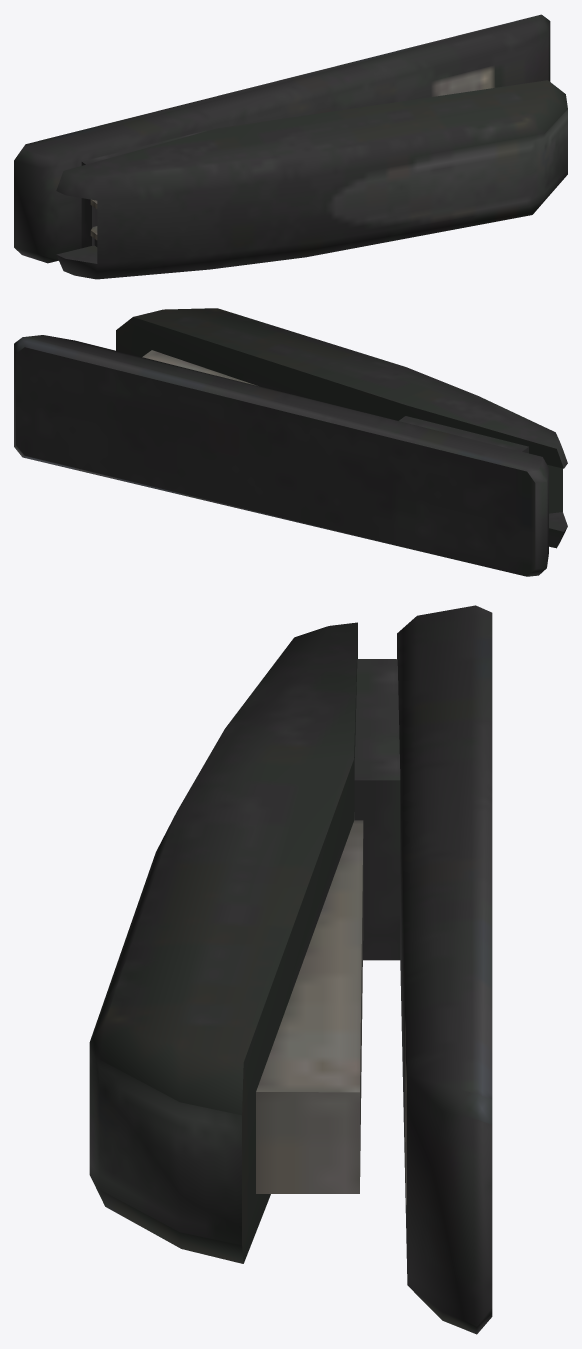
The model's file is p_rus_stapler_LOD0.obj.
3 views of the same model, one above another, from view 1: azimuth 30°, elevation 25°; view 2: azimuth 150°, elevation 25°; view 3: azimuth 270°, elevation 25° (orthographic). The views are drawn at different scales.
Parts seen in each view (by area): view 1: mtl_p_rus_stapler; view 2: mtl_p_rus_stapler; view 3: mtl_p_rus_stapler.
Part boxes in pixels (box(x1,y1,x2,y2)): mtl_p_rus_stapler: box(14, 14, 567, 279); mtl_p_rus_stapler: box(14, 308, 567, 576); mtl_p_rus_stapler: box(89, 605, 492, 1334).
Bounding box in the file's own units: 19.9 × 4.3 × 6.52.
